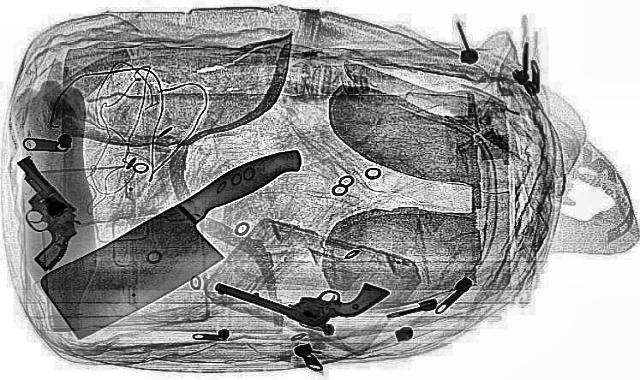Gun: (202, 265, 392, 333), (5, 154, 86, 270)
Knife: (0, 136, 366, 346)
